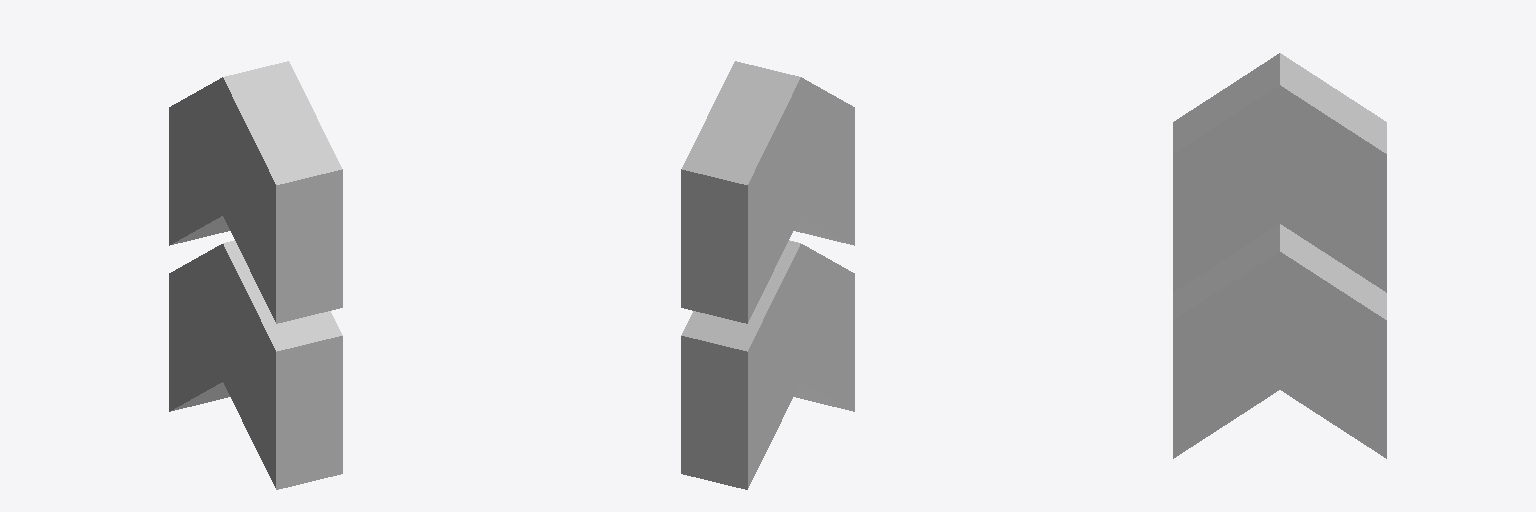
The model's file is Boost.obj.
The picture shows the model from 3 angles: view 1: azimuth 30°, elevation 25°; view 2: azimuth 150°, elevation 25°; view 3: azimuth 270°, elevation 25°; orthographic projection.
Visible parts, largest first — view 1: Boost; view 2: Boost; view 3: Boost.
Part boxes in pixels (bbox=[...]): Boost: bbox=[169, 61, 342, 489]; Boost: bbox=[681, 61, 854, 489]; Boost: bbox=[1173, 53, 1386, 458].
Size of the model in its own units: 0.4 by 2.16 by 1.12.